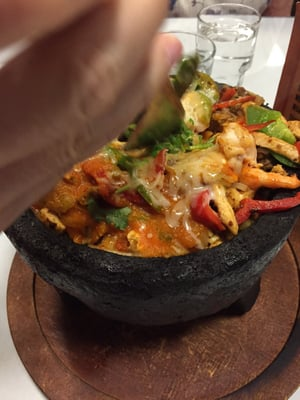pizza: (197, 3, 262, 87), (160, 31, 217, 77)
